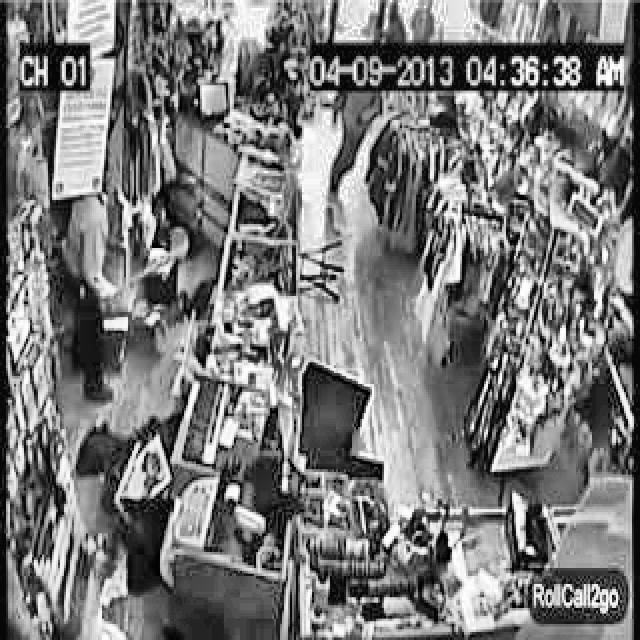robbery: (61, 194, 172, 306), (319, 93, 392, 213)
